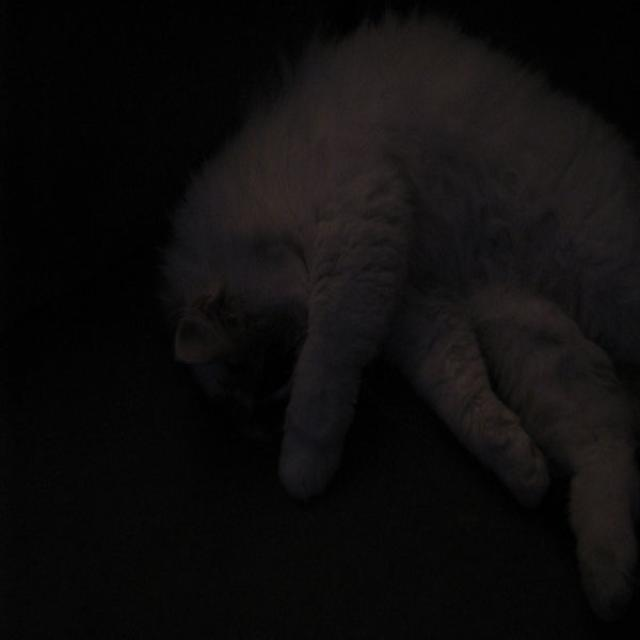Cat: (152, 10, 633, 622)
